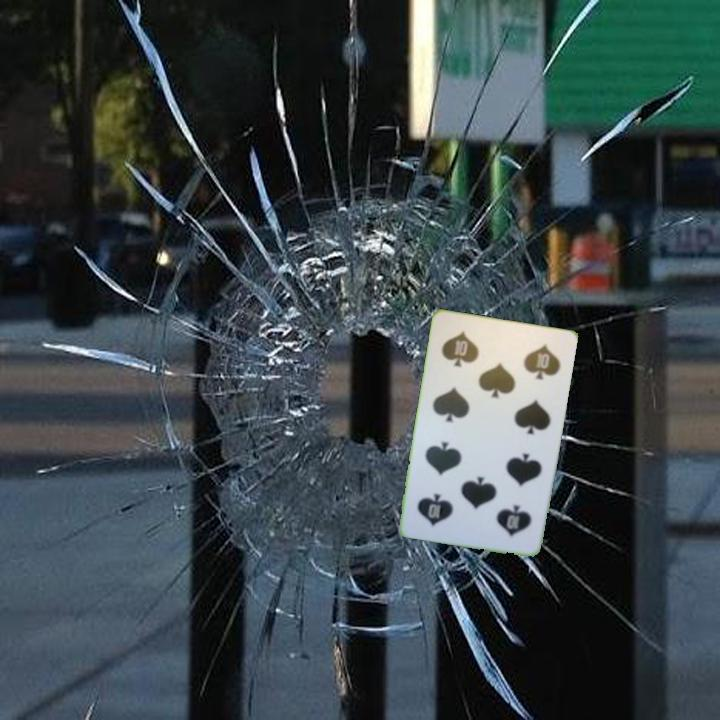s_10.png: (467, 480, 542, 548), (432, 319, 507, 386)
